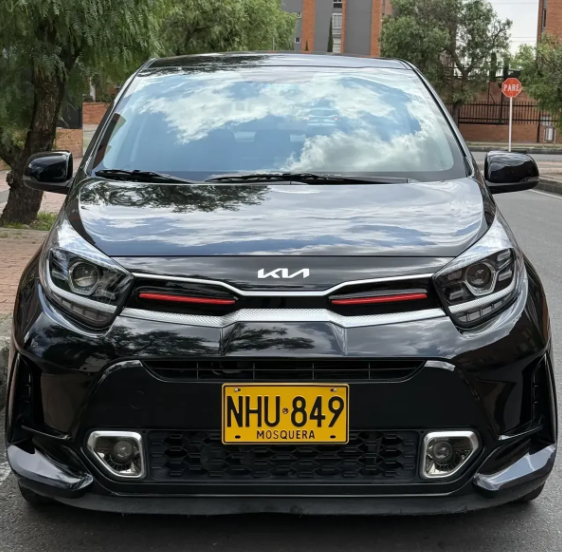placa: (221, 382, 348, 443)
